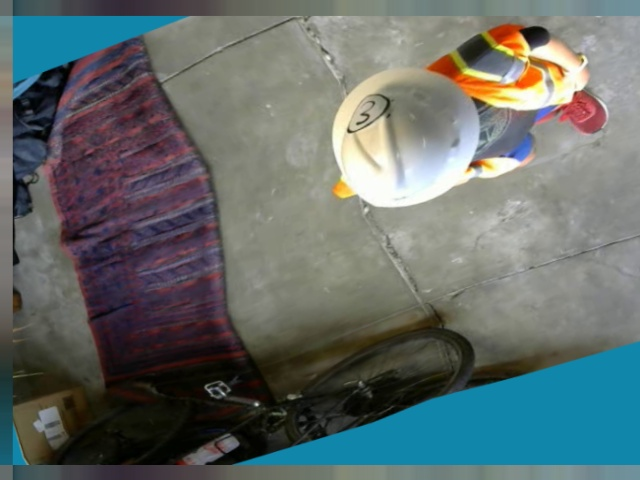three: (341, 89, 391, 136)
